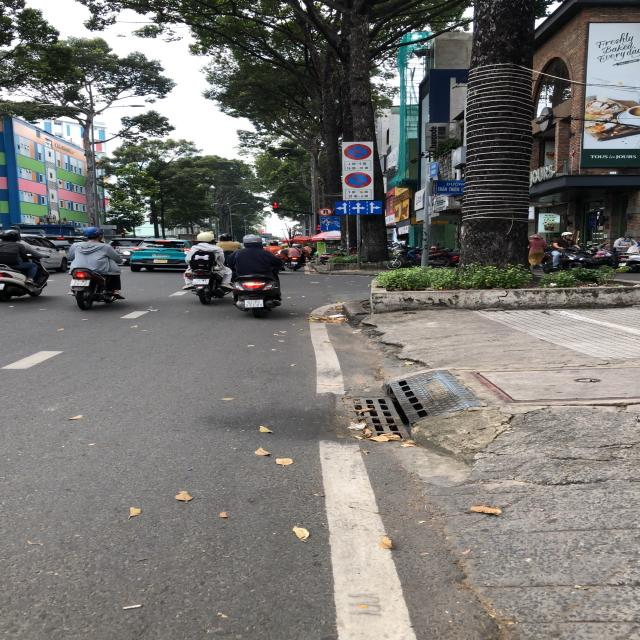Bien bao cam do xe: (344, 171, 373, 190)
Bien bao cam dung xe va do xe: (344, 142, 372, 162)
Bien bao cam quay dau xe: (317, 206, 332, 217)
